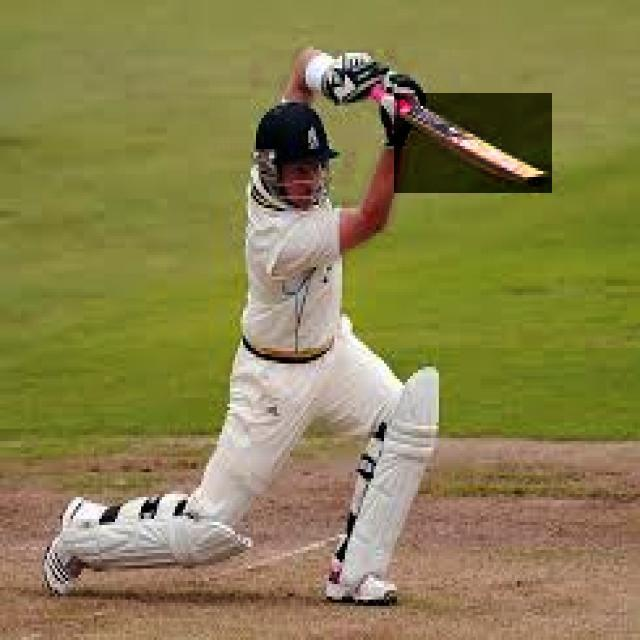bat: (395, 94, 552, 195), (513, 165, 551, 188)
